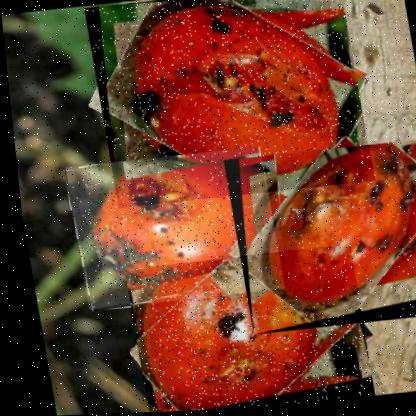tomato_rotten: (83, 0, 373, 210), (117, 245, 370, 412), (218, 139, 415, 338), (59, 146, 280, 309)
